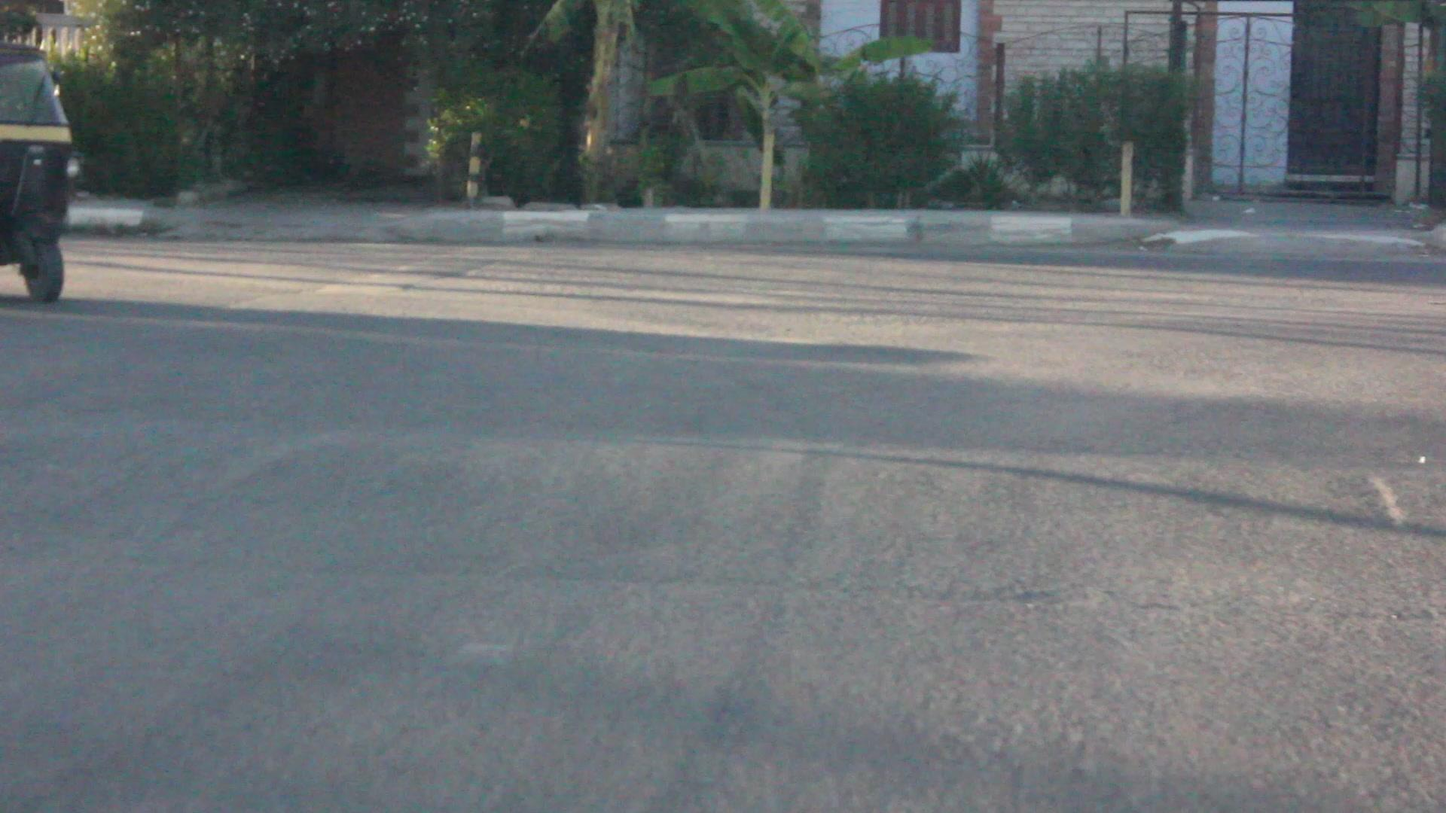Bump: (0, 401, 1446, 630)
